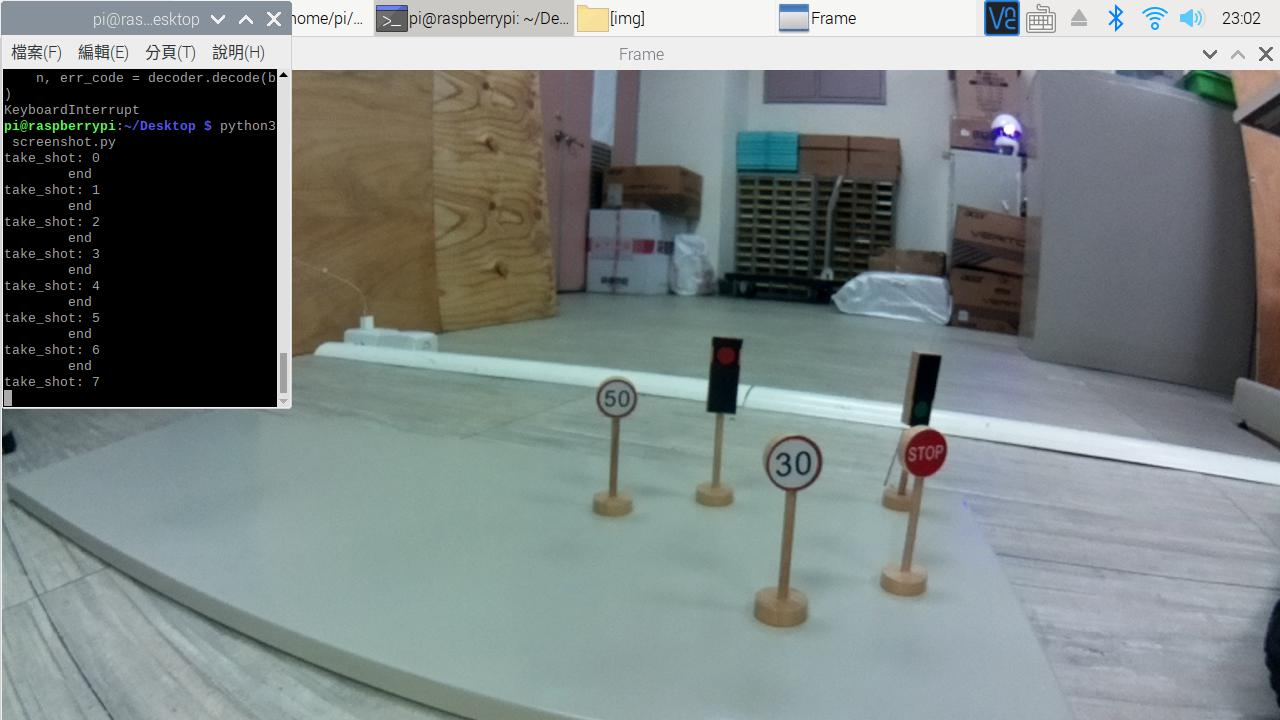Green: (916, 347, 932, 429)
Red: (710, 329, 736, 414)
Speed30: (763, 427, 820, 490)
Speed50: (597, 379, 637, 417)
Stop: (903, 430, 946, 481)
